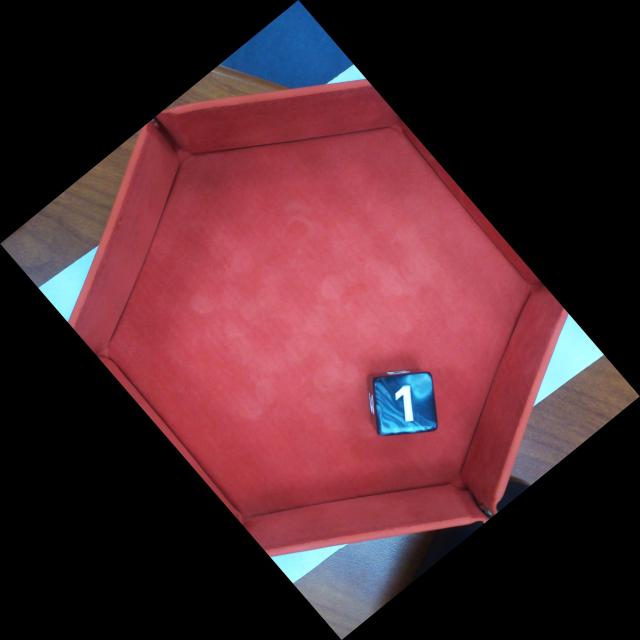dice: (370, 368, 441, 439)
